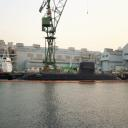submarine: (13, 61, 128, 84)
